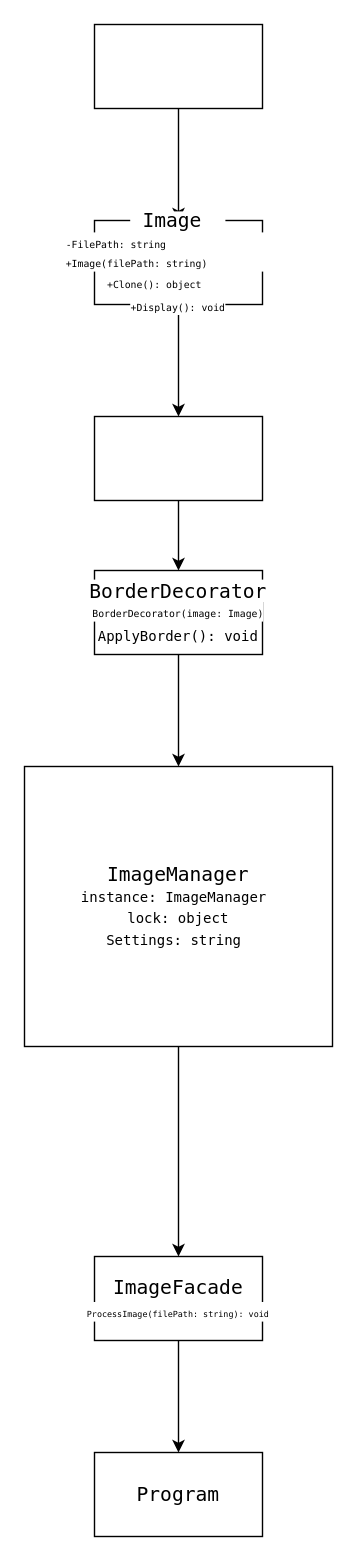
This 357x1561 diagram has some shape labels left out. The shapes that lost their labels are listed below. From the top down, each one's centre as x and y in pixels, then its label:
At [177,65]: "ICloneable +Clone(): object".
At [177,457]: "GrayscaleDecorator GrayscaleDecorator(image: Image) ApplyGrayscale(): void".
